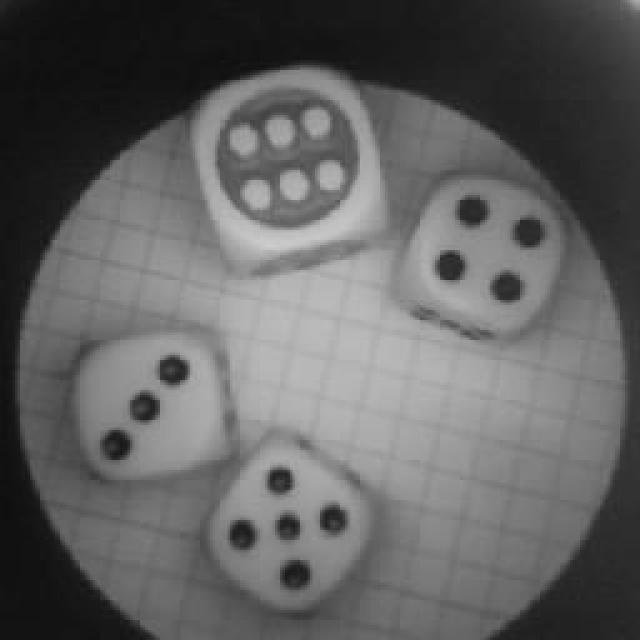dice_3: (60, 315, 235, 487)
dice_4: (405, 168, 573, 338)
dice_5: (205, 428, 380, 622)
dice_6: (185, 55, 393, 263)
